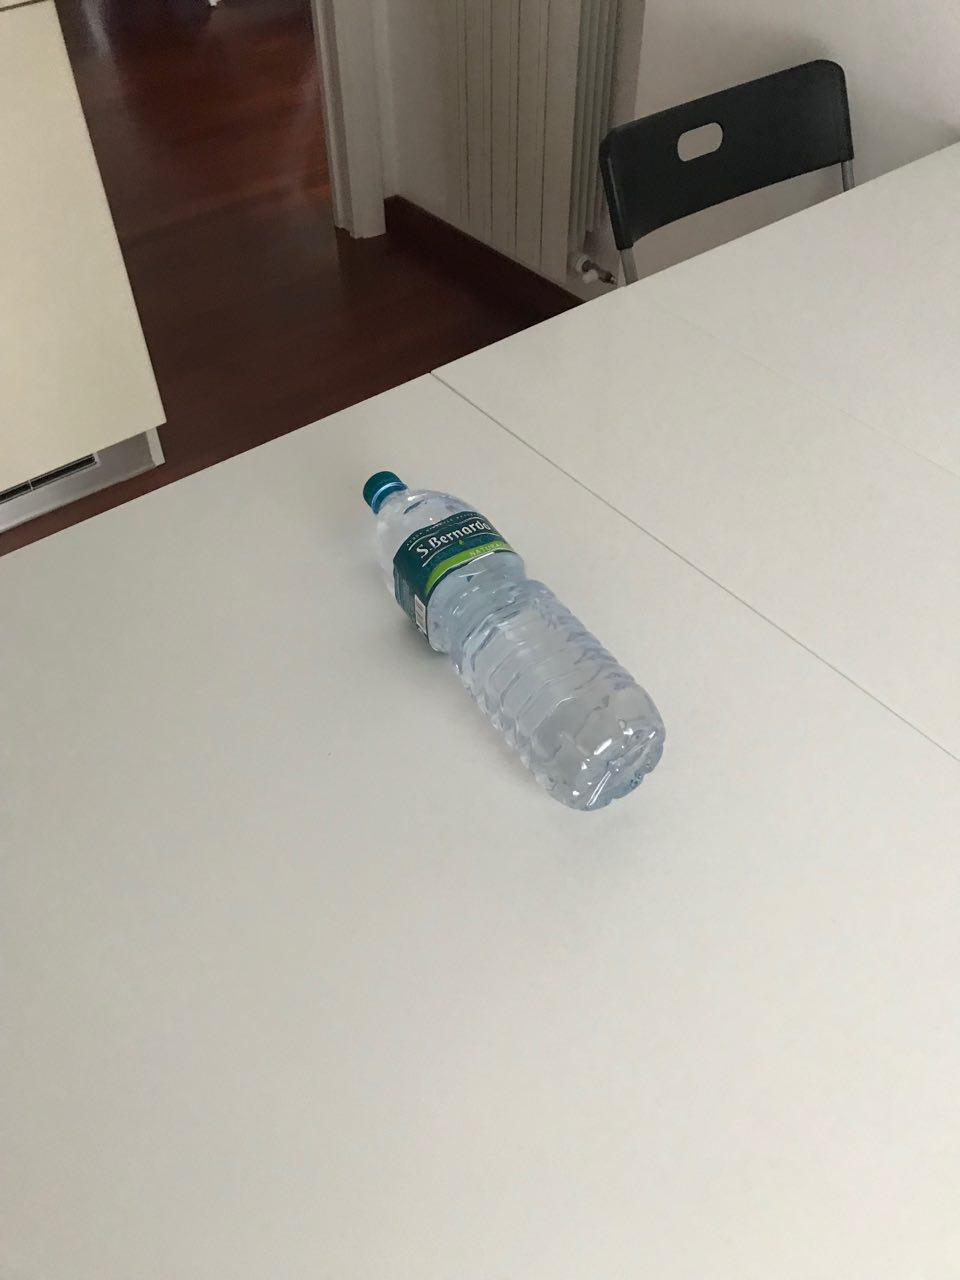san_bernardo: (362, 471, 668, 811)
